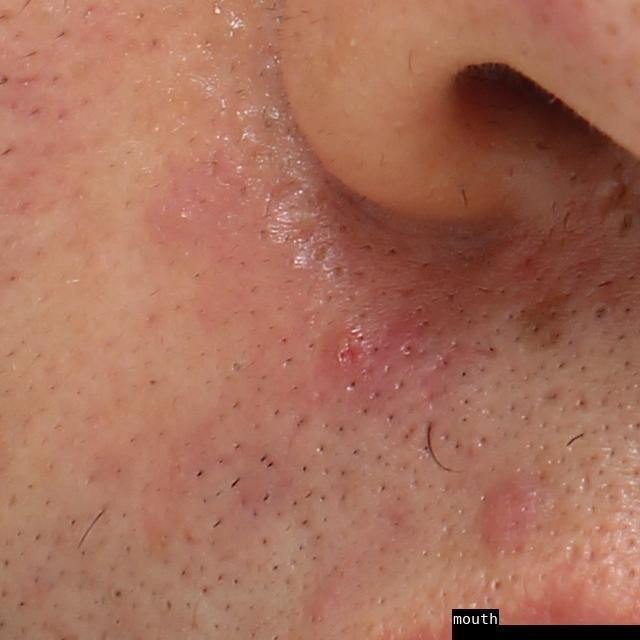papule: (480, 483, 528, 549)
